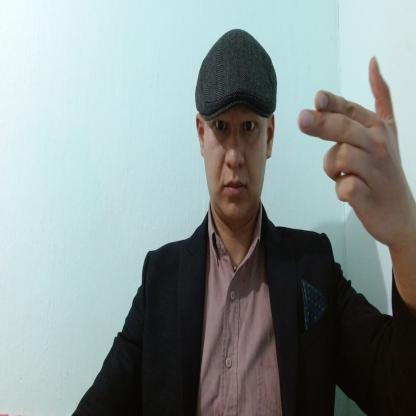H: (297, 56, 403, 247)
